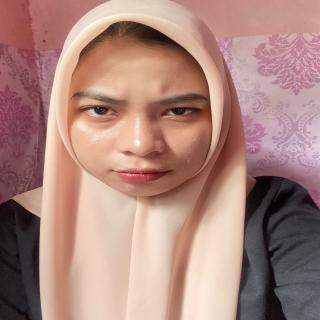Marah: (53, 35, 226, 202)
